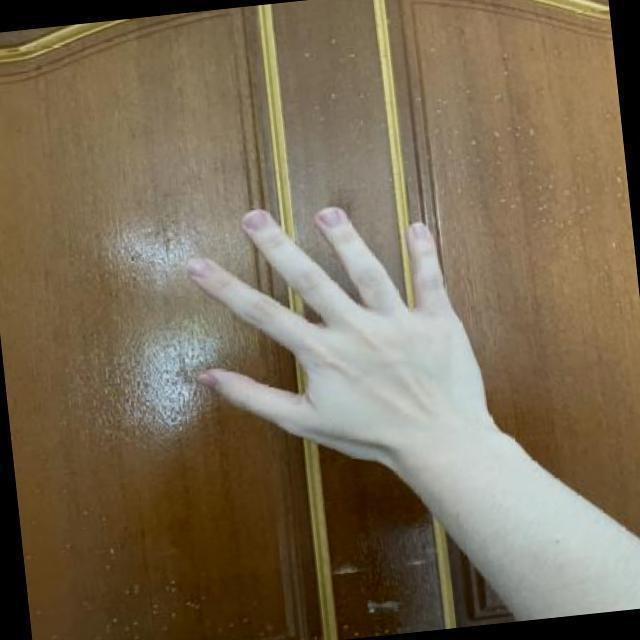hand: (155, 162, 530, 496)
